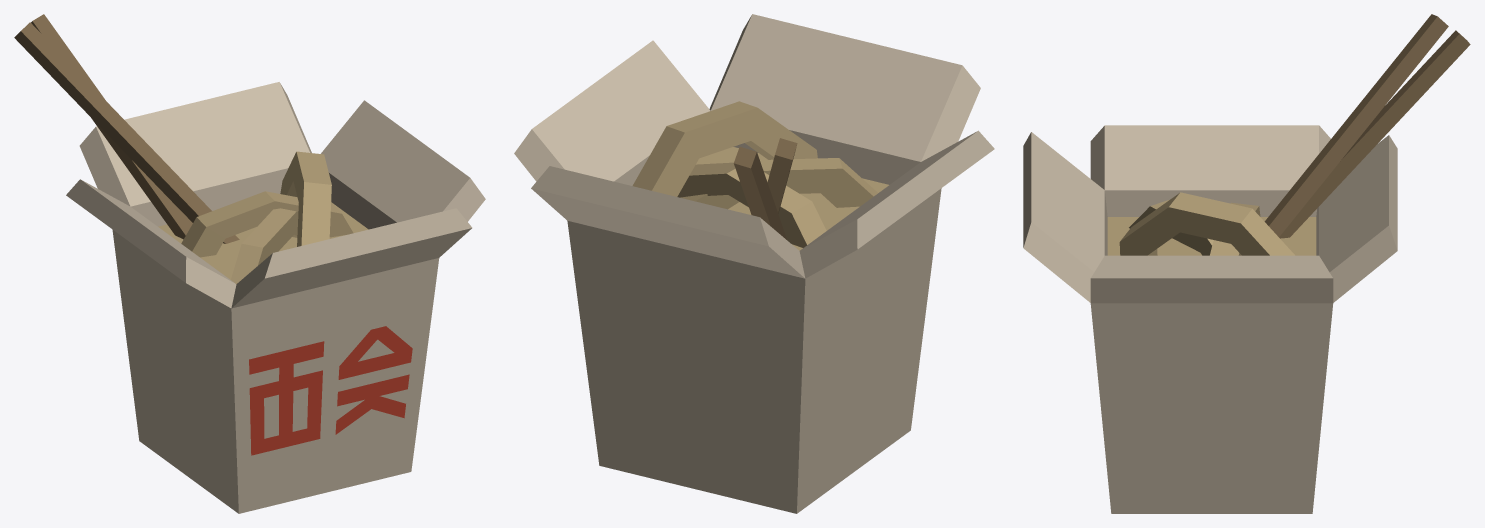
The model's file is SM_Prop_Sign_Noodles_01.fbx.
3 renders of one model, left to right at view 1: azimuth 30°, elevation 25°; view 2: azimuth 150°, elevation 25°; view 3: azimuth 270°, elevation 25°, orthographic. The views are drawn at different scales.
Parts seen in each view (by area): view 1: SM_Prop_Sign_Noodles_01; view 2: SM_Prop_Sign_Noodles_01; view 3: SM_Prop_Sign_Noodles_01.
Boxes of the visible parts, x1,y1,x2,y2 form: SM_Prop_Sign_Noodles_01: (14, 14, 485, 513); SM_Prop_Sign_Noodles_01: (514, 14, 994, 513); SM_Prop_Sign_Noodles_01: (1023, 14, 1470, 513).
Size of the model in its own units: 60.8 by 74.59 by 77.68.
